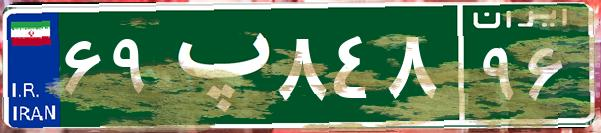4: (330, 28, 385, 110)
6: (57, 26, 110, 107), (525, 38, 570, 115)
8: (385, 28, 445, 110), (273, 28, 330, 110)
9: (475, 38, 525, 113), (110, 28, 158, 105)
پ: (158, 15, 273, 115)
